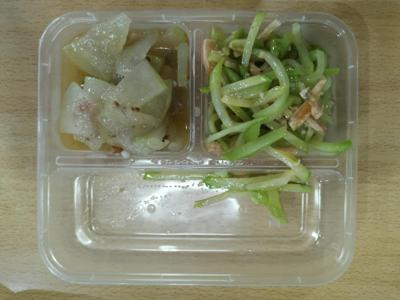dg: (52, 14, 192, 160)
